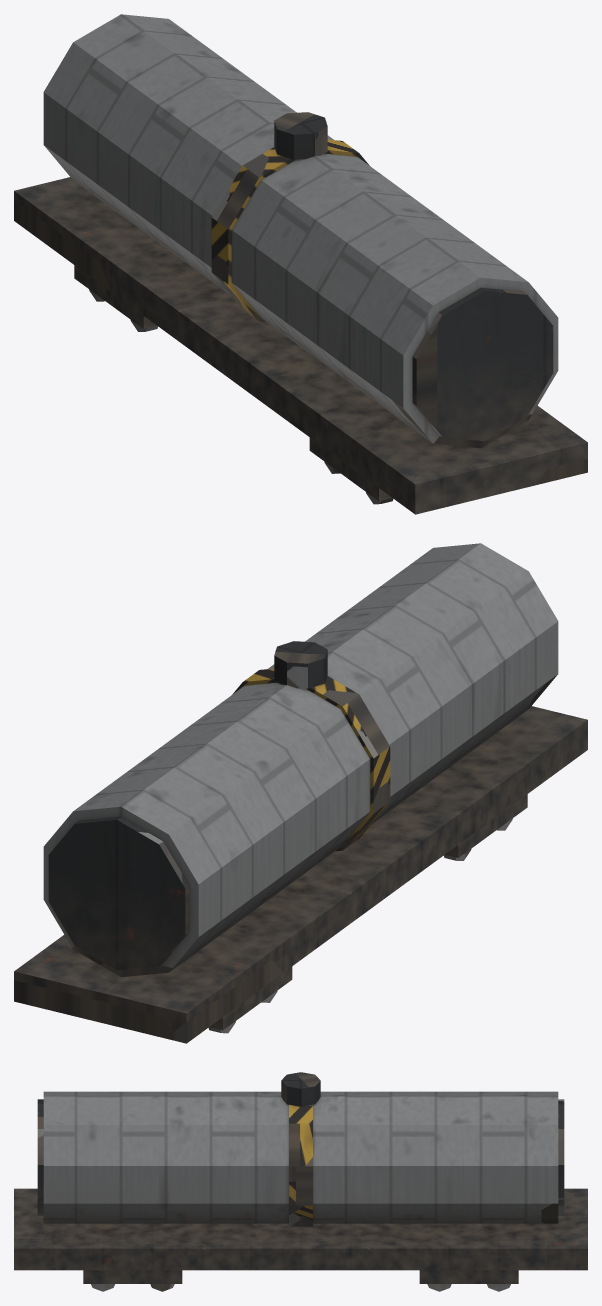
File: vagao_tanque.glb
The picture shows the model from 3 angles, top to bottom: view 1: azimuth 30°, elevation 25°; view 2: azimuth 150°, elevation 25°; view 3: azimuth 270°, elevation 25°; orthographic projection. The views are drawn at different scales.
Visible parts, largest first — view 1: vagao_tanque_corpo, vagao_tanque_truque0, vagao_tanque_truque1; view 2: vagao_tanque_corpo, vagao_tanque_truque1, vagao_tanque_truque0; view 3: vagao_tanque_corpo, vagao_tanque_truque0, vagao_tanque_truque1.
Boxes of the visible parts, bbox=[...] form: vagao_tanque_corpo: bbox=[14, 14, 587, 514]; vagao_tanque_truque0: bbox=[309, 437, 393, 504]; vagao_tanque_truque1: bbox=[74, 265, 157, 331]; vagao_tanque_corpo: bbox=[14, 543, 587, 1043]; vagao_tanque_truque1: bbox=[208, 966, 292, 1033]; vagao_tanque_truque0: bbox=[444, 794, 527, 860]; vagao_tanque_corpo: bbox=[14, 1072, 587, 1270]; vagao_tanque_truque0: bbox=[83, 1270, 182, 1291]; vagao_tanque_truque1: bbox=[419, 1270, 518, 1291].
Size of the model in its own units: 0.72 by 1.05 by 2.9.
Materials: 1 (1 with a texture image).
